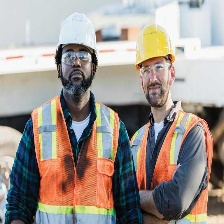helmet: (55, 13, 99, 59), (135, 26, 175, 62)
person: (21, 13, 138, 224), (126, 20, 215, 224)
vest: (31, 94, 122, 224), (128, 112, 215, 223)
